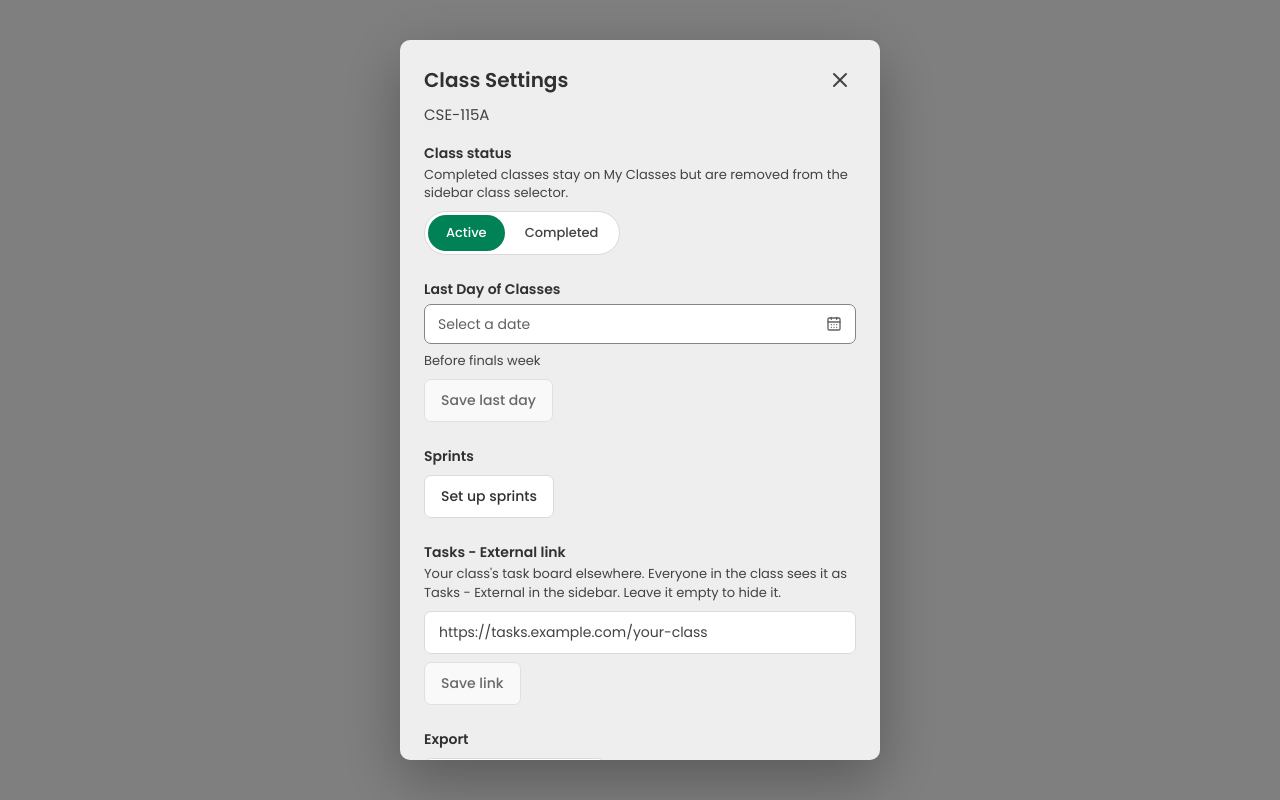
Test case: ClassSettingsModal — Tasks - External link › keeps what you typed and says why when the save fails
Type "https://job191.yeterly.ai/" into the field labelled "Tasks - External link".
click(640, 632); type("https://job191.yeterly.ai/")  # box 424,611 -> 856,654
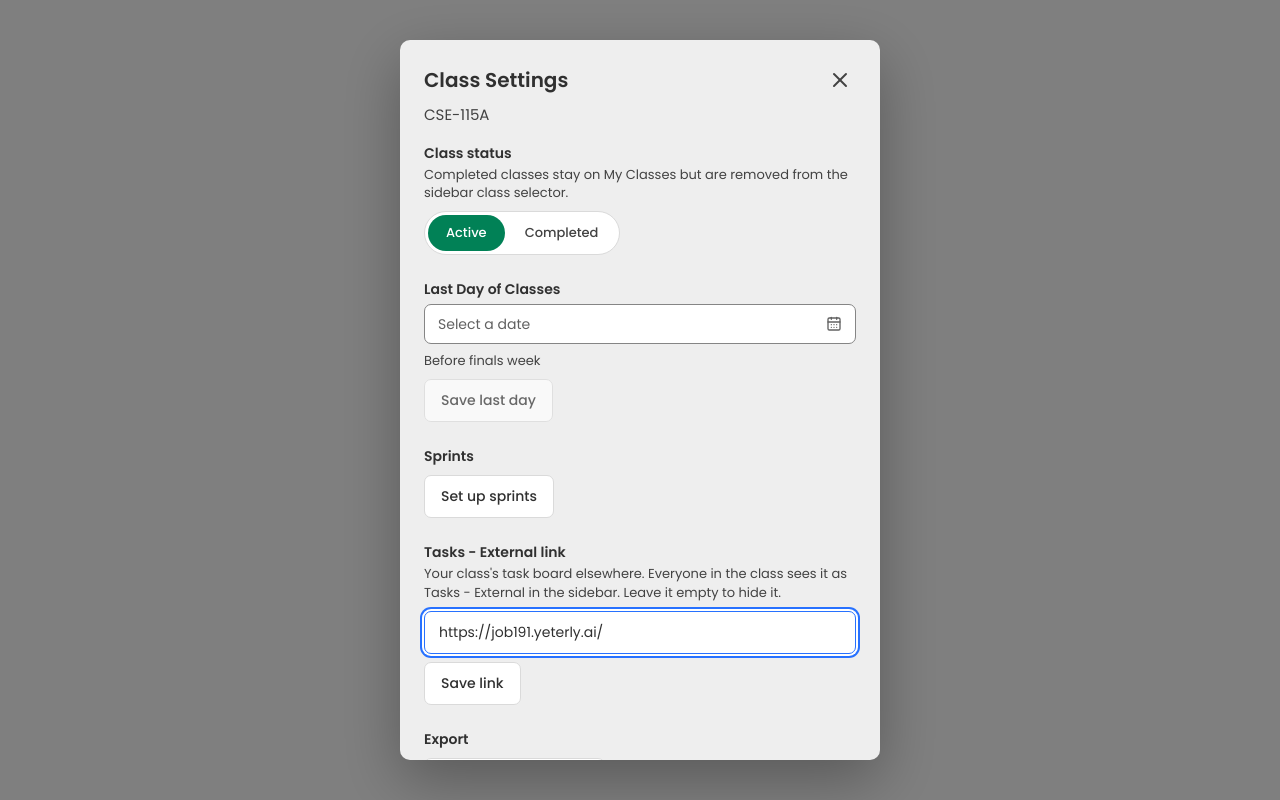
Click the button "Save link".
click(472, 683)  # box 424,662 -> 520,705
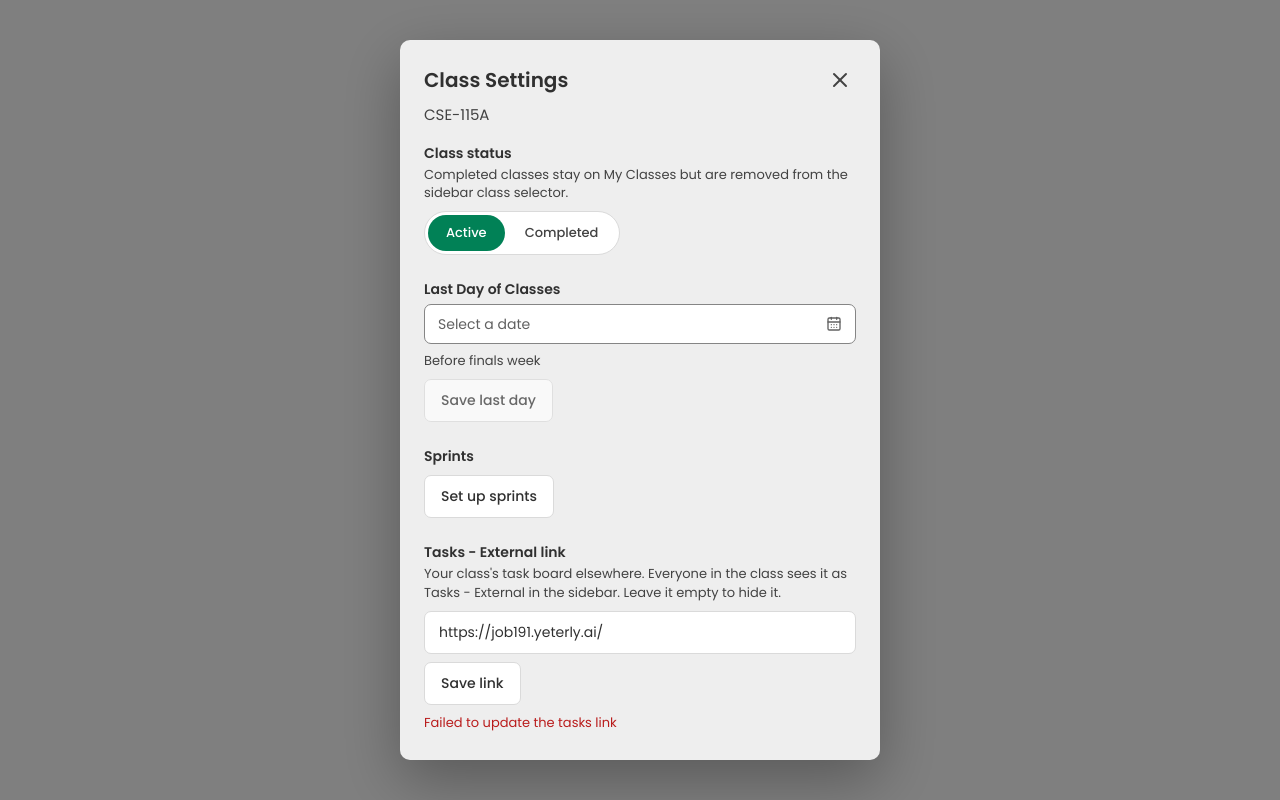
Expected: the message reads "Failed to update the tasks link", 424,713 -> 617,732
